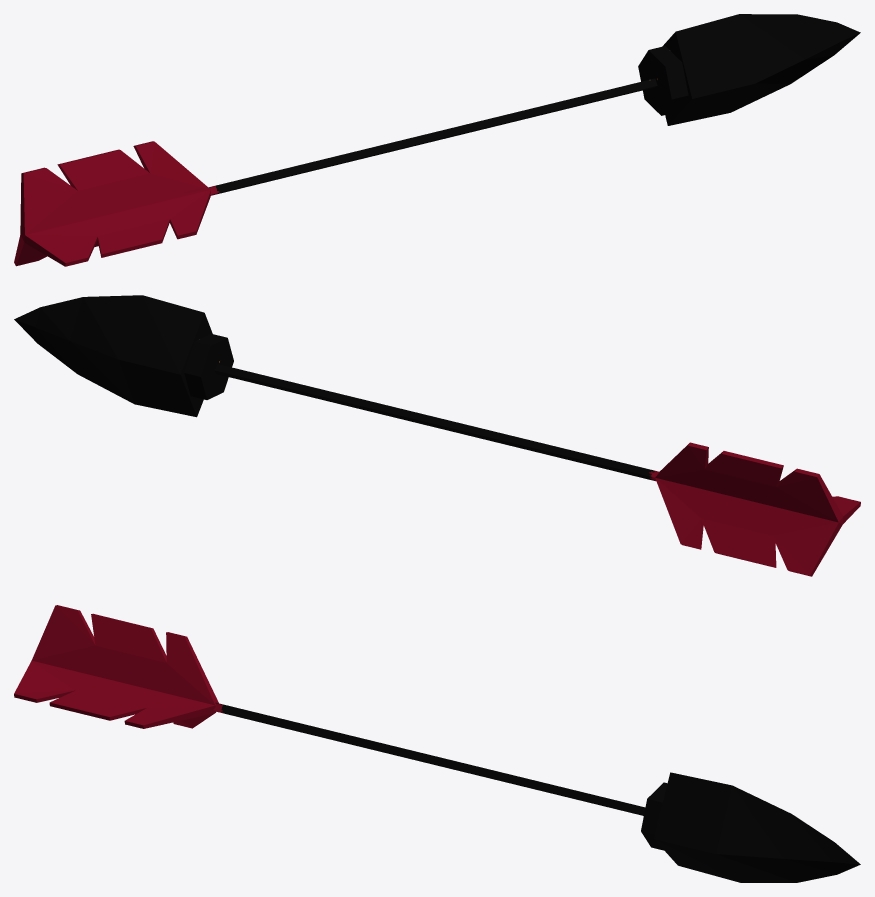
File: Arrow2.obj
The picture shows the model from 3 angles, top to bottom: view 1: azimuth 30°, elevation 25°; view 2: azimuth 150°, elevation 25°; view 3: azimuth 330°, elevation 25°; orthographic projection.
Parts seen in each view (by area): view 1: Object.1; view 2: Object.1; view 3: Object.1.
Boxes of the visible parts, x1,y1,x2,y2 form: Object.1: [14, 14, 860, 266]; Object.1: [14, 295, 860, 576]; Object.1: [14, 605, 860, 882].
Bounding box in the file's own units: 0.5109 × 0.0613 × 0.0545.
